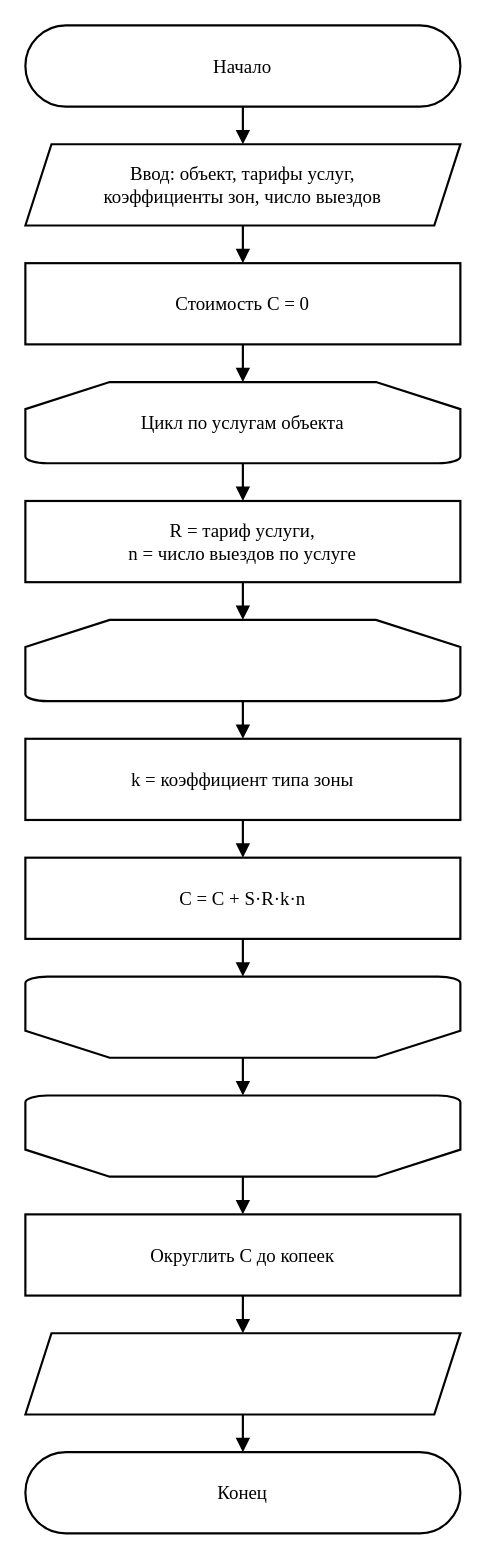
The diagram is 487 pixels wide and 1560 high, and some of its shapes have lost their labels. The box of each missing label's shape, as (x1, y1, x2, y2) in pixels:
Вывод: стоимость C: (24, 1332, 461, 1415)
Конец цикла по зонам: (24, 975, 461, 1058)
Конец цикла по услугам: (24, 1094, 461, 1177)
Цикл по зонам объекта: (24, 618, 461, 702)
